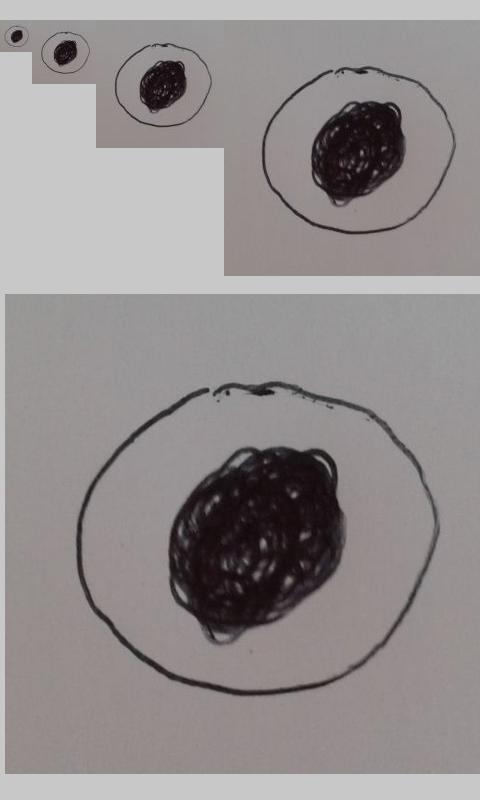radio_button: (73, 378, 442, 698), (260, 64, 457, 235), (113, 41, 213, 128), (40, 31, 92, 74), (4, 24, 30, 48)
